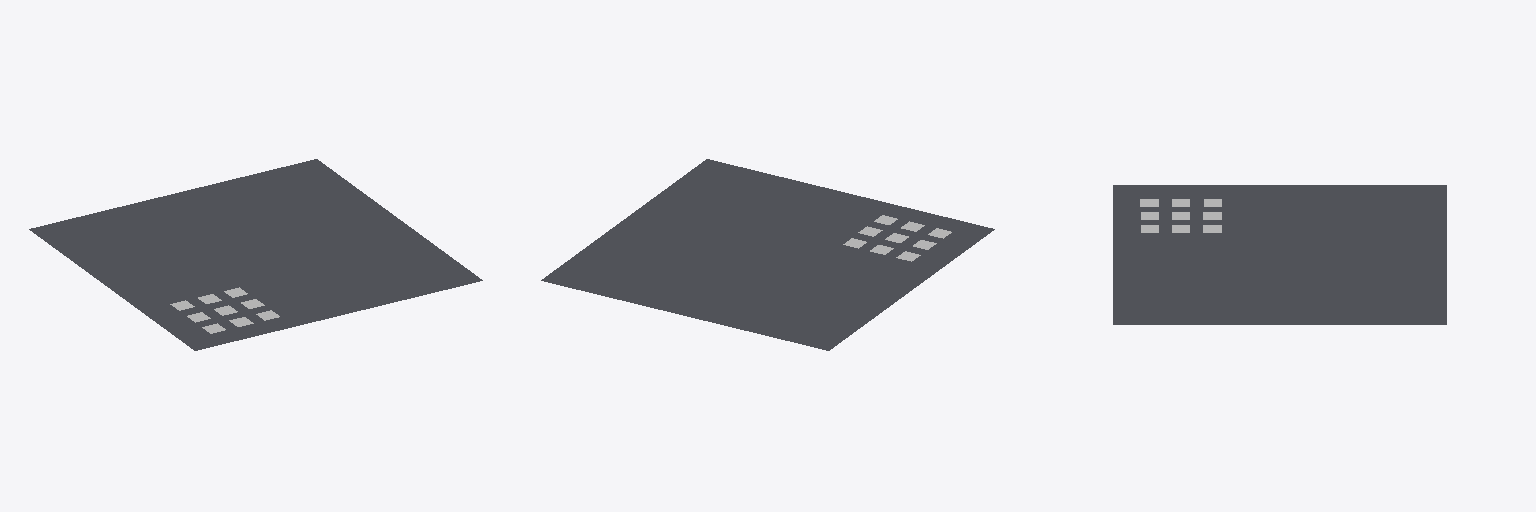
3 renders of one model, left to right at view 1: azimuth 30°, elevation 25°; view 2: azimuth 150°, elevation 25°; view 3: azimuth 270°, elevation 25°, orthographic.
Parts seen in each view (by area): view 1: Plane; view 2: Plane; view 3: Plane.
Boxes of the visible parts, box(x1,y1,x2,y2) form: Plane: box(29, 159, 482, 350); Plane: box(541, 159, 994, 350); Plane: box(1113, 185, 1446, 324).
Bounding box in the file's own units: 100 × 0.6888 × 100.